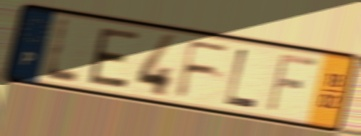4: (133, 32, 181, 99)
E: (86, 25, 142, 91)
F: (263, 51, 321, 116), (173, 38, 232, 100)
L: (42, 16, 81, 86), (222, 46, 261, 111)
